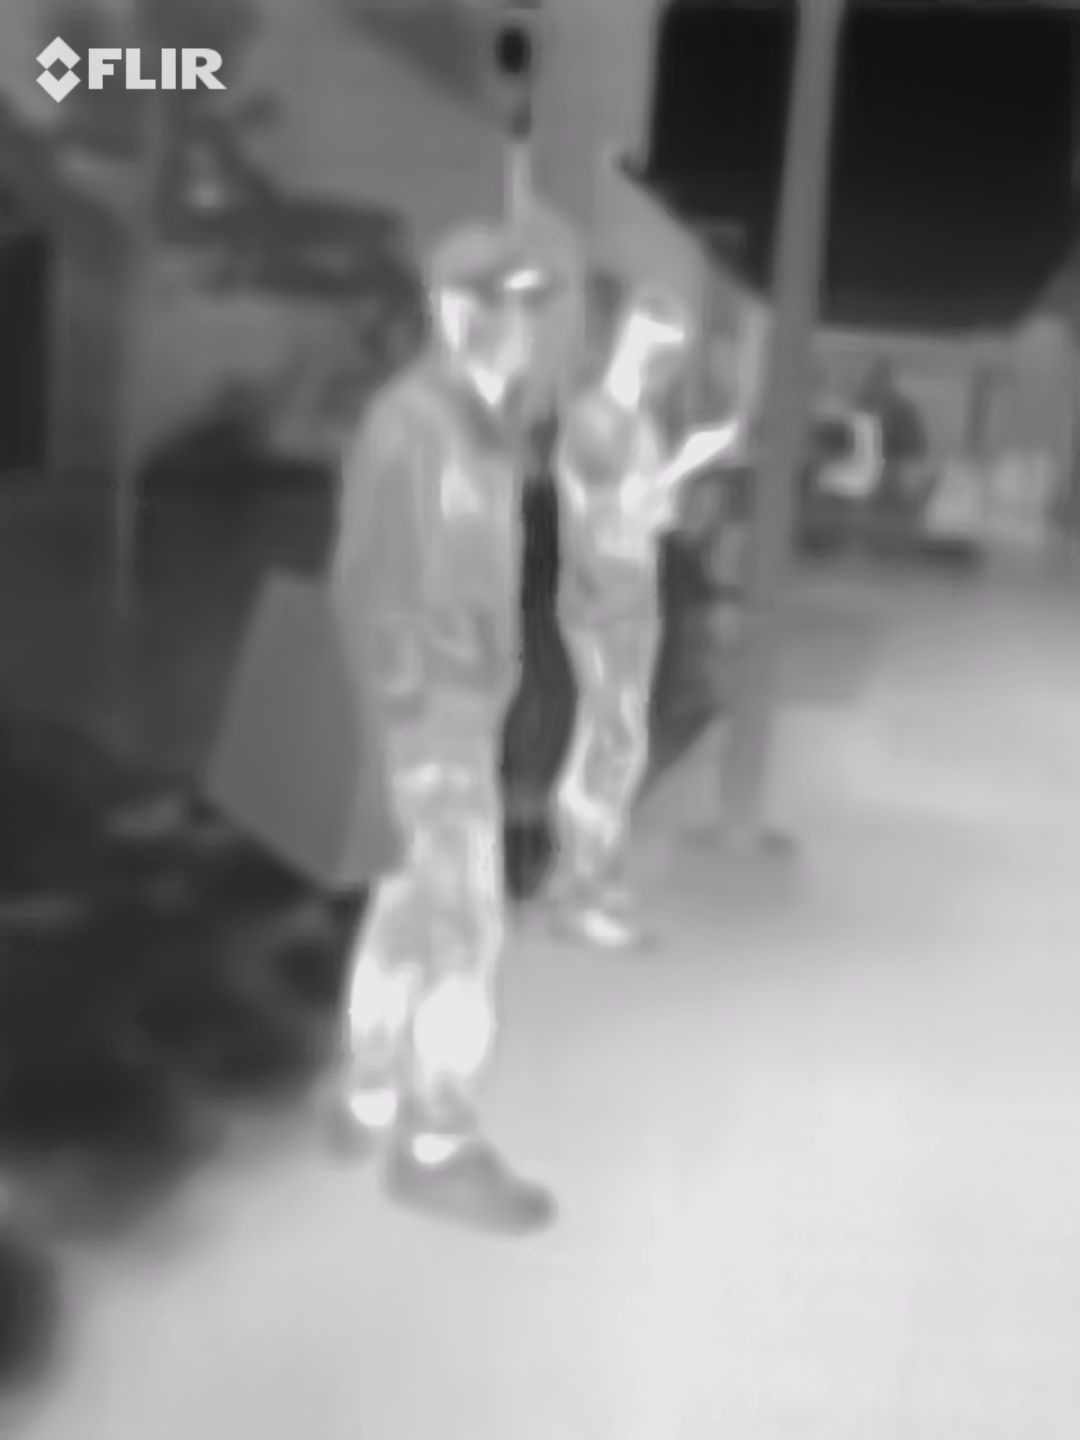head: (419, 218, 563, 392)
